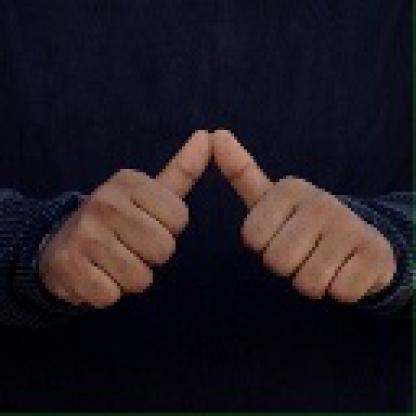A: (44, 126, 384, 320)
